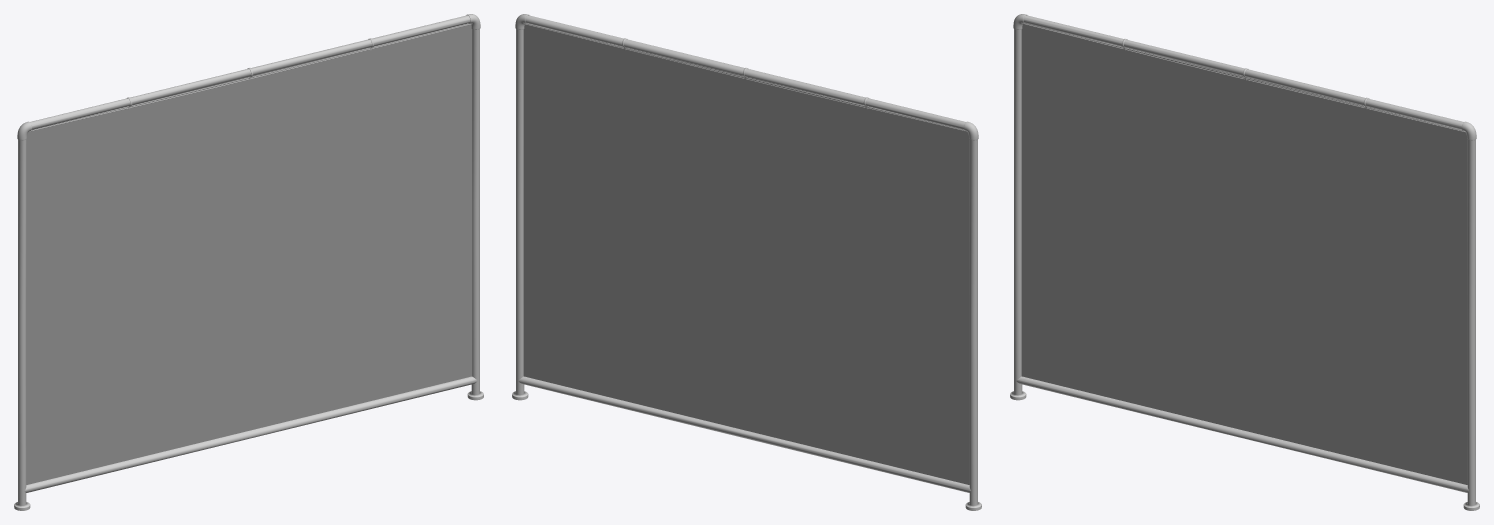
The model's file is SM_MetalGrill_Wall_02.fbx.
The picture shows the model from 3 angles, left to right: view 1: azimuth 30°, elevation 25°; view 2: azimuth 150°, elevation 25°; view 3: azimuth 330°, elevation 25°; orthographic projection.
Parts seen in each view (by area): view 1: SM_MetalGrill_Wall_02_LOD0; view 2: SM_MetalGrill_Wall_02_LOD0; view 3: SM_MetalGrill_Wall_02_LOD0.
Part boxes in pixels (x1,y1,x2,y2): SM_MetalGrill_Wall_02_LOD0: (14,14,483,510); SM_MetalGrill_Wall_02_LOD0: (512,14,981,510); SM_MetalGrill_Wall_02_LOD0: (1010,14,1479,510).
Bounding box in the file's own units: 387 × 11.61 × 303.
Materials: 2 (1 with a texture image).
